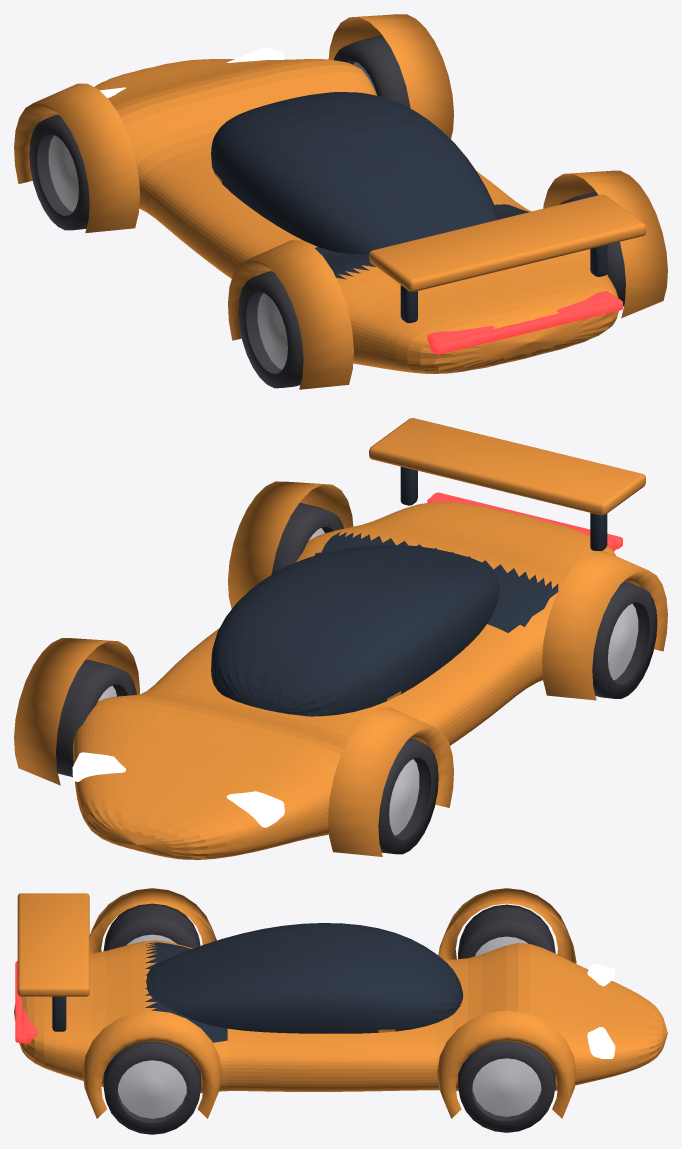
Rendered from car.glb.
The picture shows the model from 3 angles, top to bottom: view 1: azimuth 30°, elevation 25°; view 2: azimuth 150°, elevation 25°; view 3: azimuth 270°, elevation 25°; orthographic projection. The views are drawn at different scales.
Parts seen in each view (by area): view 1: Body, Wheel_RL, Wheel_FL, Wheel_FR, Wheel_RR; view 2: Body, Wheel_RL, Wheel_FL, Wheel_FR, Wheel_RR; view 3: Body, Wheel_RR, Wheel_FR, Wheel_FL, Wheel_RL.
Boxes of the visible parts, left/top/right/bottom form: Body: left=14, top=14, right=667, bottom=389; Wheel_RL: left=238, top=271, right=303, bottom=388; Wheel_FL: left=29, top=114, right=89, bottom=230; Wheel_FR: left=334, top=35, right=410, bottom=108; Wheel_RR: left=559, top=192, right=625, bottom=306; Body: left=14, top=418, right=667, bottom=859; Wheel_RL: left=592, top=582, right=657, bottom=698; Wheel_FL: left=378, top=738, right=438, bottom=854; Wheel_FR: left=56, top=659, right=136, bottom=776; Wheel_RR: left=271, top=502, right=343, bottom=574; Body: left=14, top=888, right=667, bottom=1118; Wheel_RR: left=103, top=1041, right=201, bottom=1134; Wheel_FR: left=458, top=1041, right=555, bottom=1132; Wheel_FL: left=458, top=904, right=555, bottom=958; Wheel_RL: left=103, top=903, right=200, bottom=951.
Size of the model in its own units: 3 by 1.17 by 5.63.
